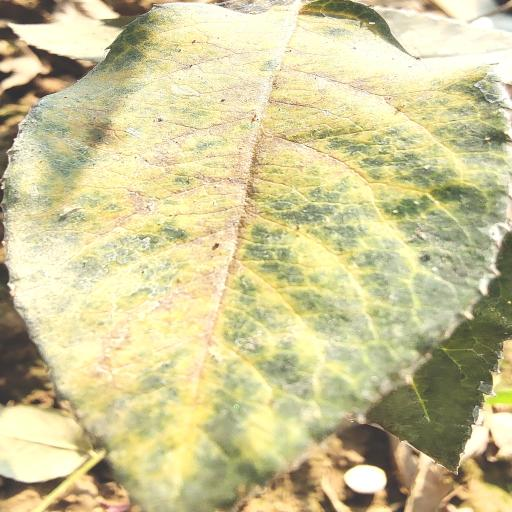red_mite: (4, 0, 510, 512)
